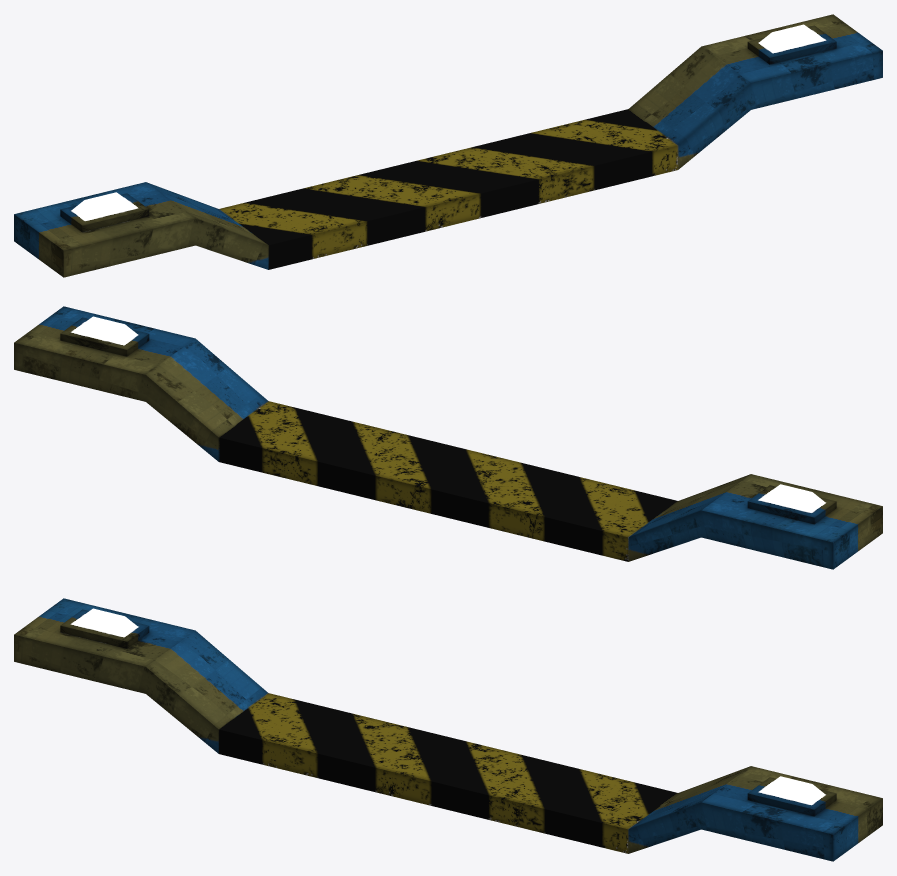
Rendered from LightPad.glb.
3 renders of one model, top to bottom at view 1: azimuth 30°, elevation 25°; view 2: azimuth 150°, elevation 25°; view 3: azimuth 330°, elevation 25°, orthographic.
Parts seen in each view (by area): view 1: LightPad; view 2: LightPad; view 3: LightPad.
Part boxes in pixels (x1,y1,x2,y2): LightPad: (14,14,882,277); LightPad: (14,306,882,569); LightPad: (14,598,882,861).
Size of the model in its own units: 8.45 by 0.8525 by 0.8886.
Materials: 1 (1 with a texture image).
